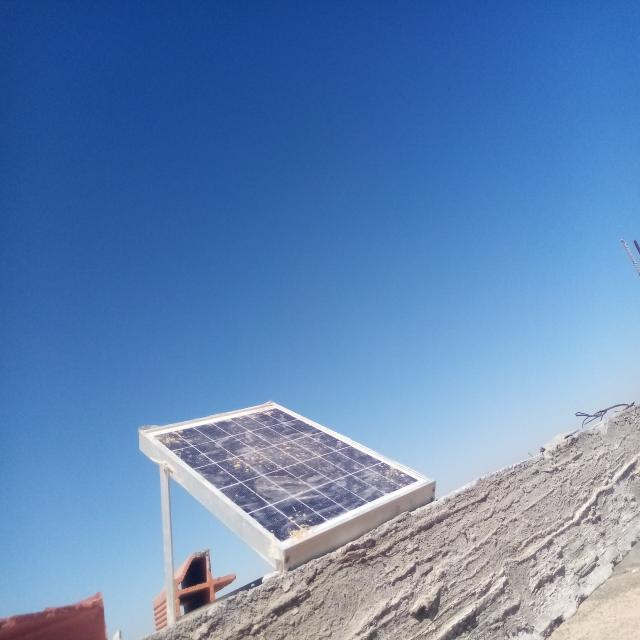faulty: (141, 402, 433, 552)
